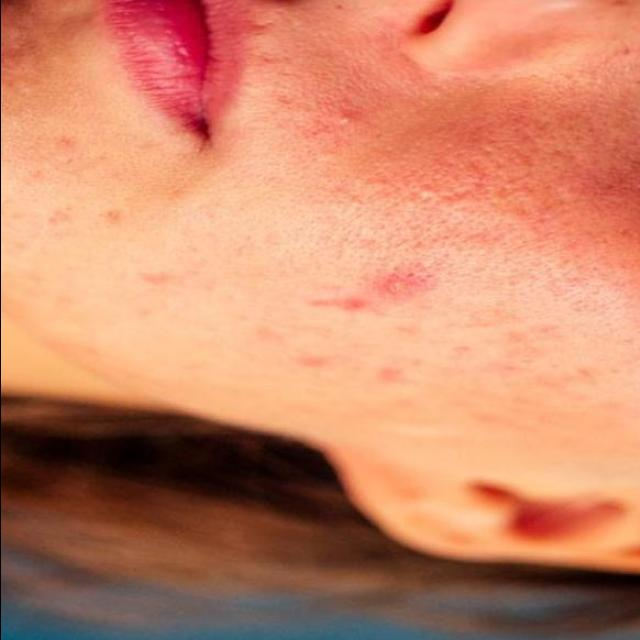papule: (370, 257, 471, 301), (303, 284, 378, 324), (130, 264, 186, 294), (255, 326, 300, 359), (371, 358, 416, 386), (283, 348, 333, 371), (52, 135, 80, 151), (101, 208, 127, 225)
pustule: (325, 106, 360, 136)
